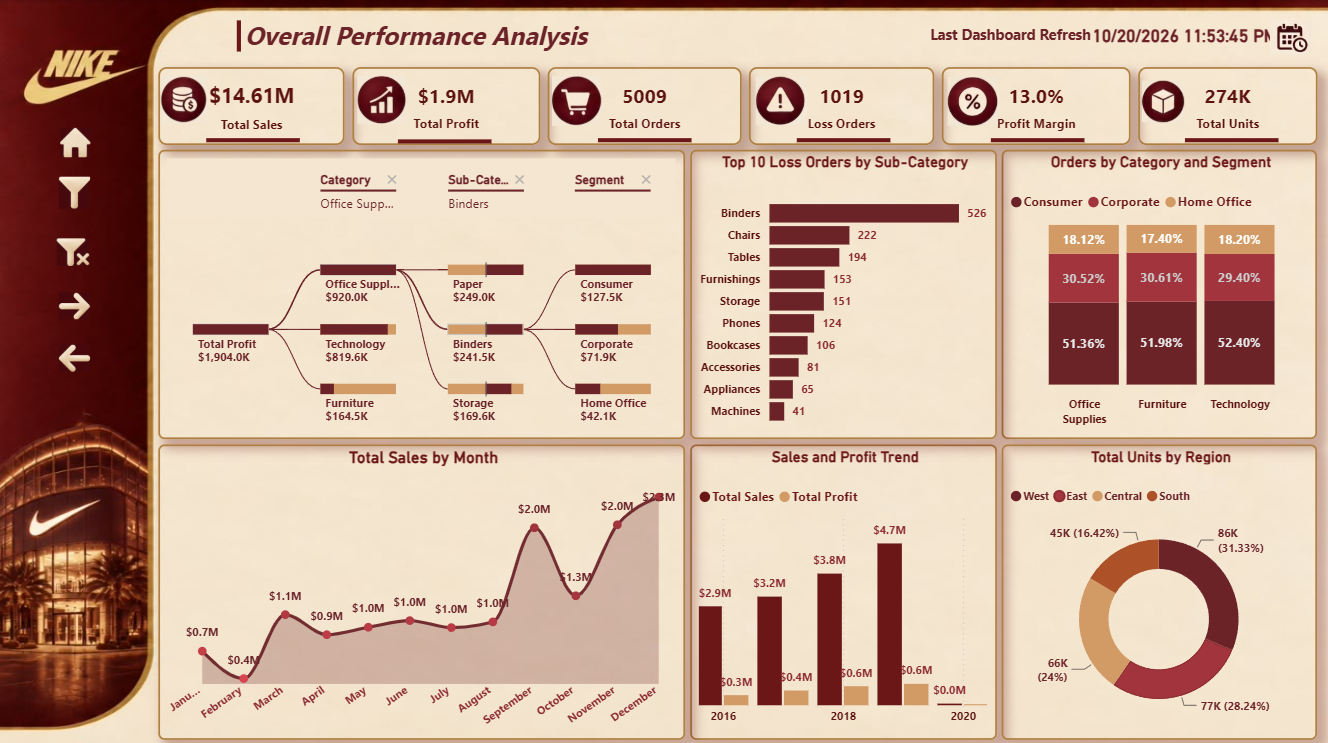

Layout of this report page (visuals, bound fields, positions):
{"tool":"powerbi","page":{"name":"Overall","canvas":[1280,720],"ordinal":1},"visuals":[{"type":"group","id":"g1","title":"Group 1","box":[55.5,13.3,1214.9,699.7],"z":0},{"type":"card","fields":{"Values":["DAX_Measures.Total Sales"]},"box":[153.2,65.2,179.8,74.8],"z":0,"group":"g1"},{"type":"card","fields":{"Values":["DAX_Measures.Total Profit"]},"box":[340.2,65.2,181,74.8],"z":1000,"group":"g1"},{"type":"card","fields":{"Values":["DAX_Measures.Total Orders"]},"box":[528.4,65.2,187,74.8],"z":2000,"group":"g1"},{"type":"card","fields":{"Values":["DAX_Measures.Loss Orders"]},"box":[722.7,65.2,178.6,74.8],"z":3000,"group":"g1"},{"type":"card","fields":{"Values":["DAX_Measures.Profit Margin"]},"box":[908.5,65.2,182.2,74.8],"z":4000,"group":"g1"},{"type":"card","fields":{"Values":["DAX_Measures.total Units"]},"box":[1097.9,65.2,172.5,74.8],"z":5000,"group":"g1"},{"type":"lineClusteredColumnComboChart","title":" Sales and Profit Trend","fields":{"Category":["Fact_Orders.Ship Date.Variation.Date Hierarchy.Year","Fact_Orders.Ship Date.Variation.Date Hierarchy.Quarter","Fact_Orders.Ship Date.Variation.Date Hierarchy.Month","Fact_Orders.Ship Date.Variation.Date Hierarchy.Day"],"Y":["DAX_Measures.Total Sales","DAX_Measures.Total Profit"]},"box":[666,428.3,295.6,284.7],"z":6000,"group":"g1"},{"type":"shape","box":[211.1,20.5,39.8,30.2],"z":7000,"group":"g1"},{"type":"hundredPercentStackedColumnChart","title":"Orders by Category and Segment","fields":{"Category":["Dim_Categores.Category"],"Series":["Dim_Segment.Segment"],"Y":["DAX_Measures.Total Orders"]},"box":[966.4,144.8,304,278.7],"z":8000,"group":"g1"},{"type":"decompositionTreeVisual","fields":{"Analyze":["DAX_Measures.Total Profit"],"ExplainBy":["Dim_Categores.Category","Dim_Sub-Category.Sub-Category","Dim_Segment.Segment"]},"box":[153.2,144.8,507.9,278.7],"z":9000,"group":"g1"},{"type":"clusteredBarChart","title":"Top 10 Loss Orders by Sub-Category","fields":{"Category":["Dim_Sub-Category.Sub-Category"],"Y":["DAX_Measures.Loss Orders"]},"box":[666,144.8,295.6,278.7],"z":10000,"group":"g1"},{"type":"donutChart","fields":{"Category":["People.Region"],"Y":["DAX_Measures.Total Units"]},"box":[966.4,428.3,304,284.7],"z":11000,"group":"g1"},{"type":"textbox","box":[225.6,13.3,365.6,45.8],"z":12000,"group":"g1"},{"type":"areaChart","fields":{"Category":["Fact_Orders.Ship Date.Variation.Date Hierarchy.Year","Fact_Orders.Ship Date.Variation.Date Hierarchy.Quarter","Fact_Orders.Ship Date.Variation.Date Hierarchy.Month","Fact_Orders.Ship Date.Variation.Date Hierarchy.Day"],"Y":["DAX_Measures.Total Sales"]},"box":[153.2,428.3,507.9,284.7],"z":13000,"group":"g1"},{"type":"card","fields":{"Values":["DAX_Measures.System Time"]},"box":[1041.2,16.9,202.7,37.4],"z":14000,"group":"g1"},{"type":"textbox","box":[892.8,19.3,174.9,35],"z":15000,"group":"g1"},{"type":"image","box":[1224.5,14.5,39.8,43.4],"z":16000,"group":"g1"},{"type":"shape","box":[200.3,120.7,90.5,30.2],"z":17000,"group":"g1"},{"type":"shape","box":[384.9,121.9,90.5,30.2],"z":18000,"group":"g1"},{"type":"shape","box":[576.7,120.7,90.5,30.2],"z":19000,"group":"g1"},{"type":"shape","box":[768.5,120.7,90.5,30.2],"z":20000,"group":"g1"},{"type":"shape","box":[955.5,120.7,90.5,30.2],"z":21000,"group":"g1"},{"type":"shape","box":[1142.5,120.7,90.5,30.2],"z":22000,"group":"g1"},{"type":"image","box":[342.6,73.6,51.9,47.1],"z":23000,"group":"g1"},{"type":"image","box":[528.4,73.6,55.5,48.3],"z":24000,"group":"g1"},{"type":"image","box":[155.6,62.8,44.6,66.4],"z":25000,"group":"g1"},{"type":"image","box":[914.5,70,48.3,56.7],"z":26000,"group":"g1"},{"type":"image","box":[729.9,65.2,49.5,65.1],"z":27000,"group":"g1"},{"type":"image","box":[1101.5,73.6,41,50.7],"z":28000,"group":"g1"},{"type":"image","box":[59.1,107.4,29,60.3],"z":29000,"group":"g1"},{"type":"image","box":[55.5,212.4,31.4,63.9],"z":30000,"group":"g1"},{"type":"image","box":[57.9,162.9,30.2,45.8],"z":31000,"group":"g1"},{"type":"image","box":[57.9,276.3,30.2,37.4],"z":32000,"group":"g1"},{"type":"image","box":[57.9,327,30.2,37.4],"z":33000,"group":"g1"}]}

Visuals, with their boxes in screenshot pixels (x1, y1, x2, y2), scaled from the page's 1280x720 canvas onto the 1328x743 screenshot:
"Group 1" group: pyautogui.locateOnScreen(58, 14, 1318, 736)
card - DAX_Measures.Total Sales: pyautogui.locateOnScreen(159, 67, 345, 144)
card - DAX_Measures.Total Profit: pyautogui.locateOnScreen(353, 67, 541, 144)
card - DAX_Measures.Total Orders: pyautogui.locateOnScreen(548, 67, 742, 144)
card - DAX_Measures.Loss Orders: pyautogui.locateOnScreen(750, 67, 935, 144)
card - DAX_Measures.Profit Margin: pyautogui.locateOnScreen(943, 67, 1132, 144)
card - DAX_Measures.total Units: pyautogui.locateOnScreen(1139, 67, 1318, 144)
" Sales and Profit Trend" lineClusteredColumnComboChart: pyautogui.locateOnScreen(691, 442, 998, 736)
shape: pyautogui.locateOnScreen(219, 21, 260, 52)
"Orders by Category and Segment" hundredPercentStackedColumnChart: pyautogui.locateOnScreen(1003, 149, 1318, 437)
decompositionTreeVisual - DAX_Measures.Total Profit x Dim_Categores.Category: pyautogui.locateOnScreen(159, 149, 686, 437)
"Top 10 Loss Orders by Sub-Category" clusteredBarChart: pyautogui.locateOnScreen(691, 149, 998, 437)
donutChart - People.Region x DAX_Measures.Total Units: pyautogui.locateOnScreen(1003, 442, 1318, 736)
textbox: pyautogui.locateOnScreen(234, 14, 613, 61)
areaChart - Fact_Orders.Ship Date.Variation.Date Hierarchy.Year x Fact_Orders.Ship Date.Variation.Date Hierarchy.Quarter: pyautogui.locateOnScreen(159, 442, 686, 736)
card - DAX_Measures.System Time: pyautogui.locateOnScreen(1080, 17, 1291, 56)
textbox: pyautogui.locateOnScreen(926, 20, 1108, 56)
image: pyautogui.locateOnScreen(1270, 15, 1312, 60)
shape: pyautogui.locateOnScreen(208, 125, 302, 156)
shape: pyautogui.locateOnScreen(399, 126, 493, 157)
shape: pyautogui.locateOnScreen(598, 125, 692, 156)
shape: pyautogui.locateOnScreen(797, 125, 891, 156)
shape: pyautogui.locateOnScreen(991, 125, 1085, 156)
shape: pyautogui.locateOnScreen(1185, 125, 1279, 156)
image: pyautogui.locateOnScreen(355, 76, 409, 125)
image: pyautogui.locateOnScreen(548, 76, 606, 126)
image: pyautogui.locateOnScreen(161, 65, 208, 133)
image: pyautogui.locateOnScreen(949, 72, 999, 131)
image: pyautogui.locateOnScreen(757, 67, 809, 134)
image: pyautogui.locateOnScreen(1143, 76, 1185, 128)
image: pyautogui.locateOnScreen(61, 111, 91, 173)
image: pyautogui.locateOnScreen(58, 219, 90, 285)
image: pyautogui.locateOnScreen(60, 168, 91, 215)
image: pyautogui.locateOnScreen(60, 285, 91, 324)
image: pyautogui.locateOnScreen(60, 337, 91, 376)
